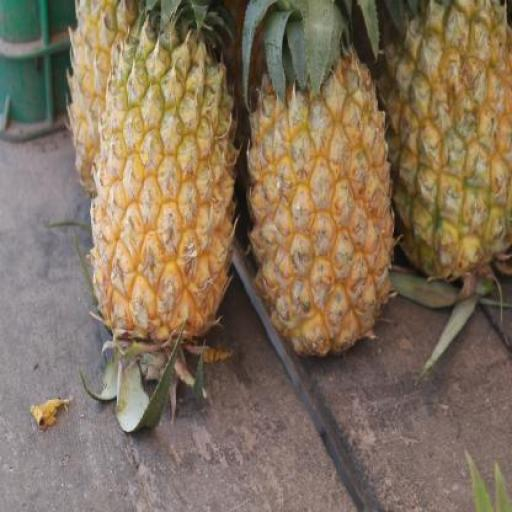------------------------------: (389, 0, 509, 271)
Pineapple - v8 v1: (92, 27, 237, 351), (248, 44, 396, 345), (70, 0, 168, 203)
